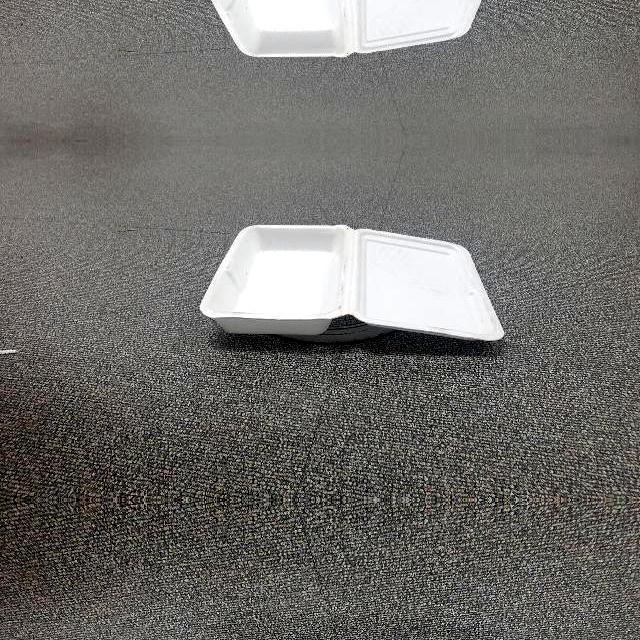Styrofoam: (198, 222, 506, 342), (200, 224, 505, 339), (198, 0, 505, 58), (212, 0, 481, 56)
